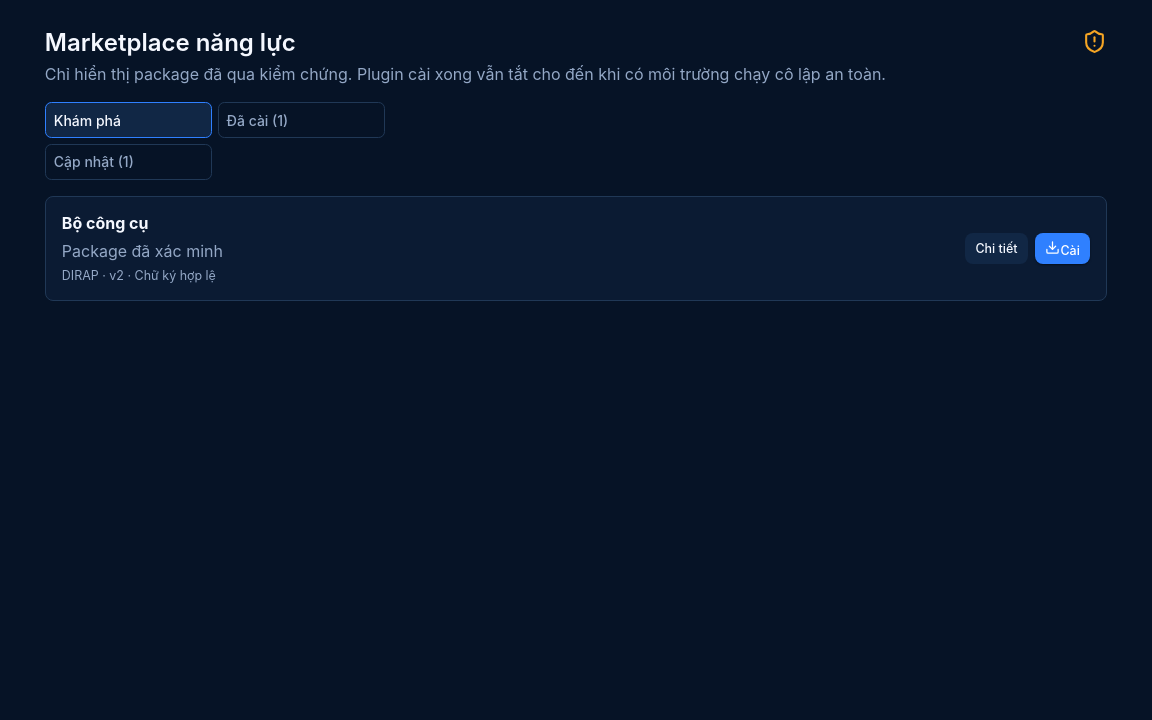
MarketplacePanel › shows verified update and safe plugin details
This screenshot has width=1152, height=720.
Expected: the text "Bộ công cụ" is shown, top-left (62, 213), bottom-right (148, 233)
Click the button "Chi tiết" at (996,249), box top-left (965, 233), bottom-right (1028, 264)
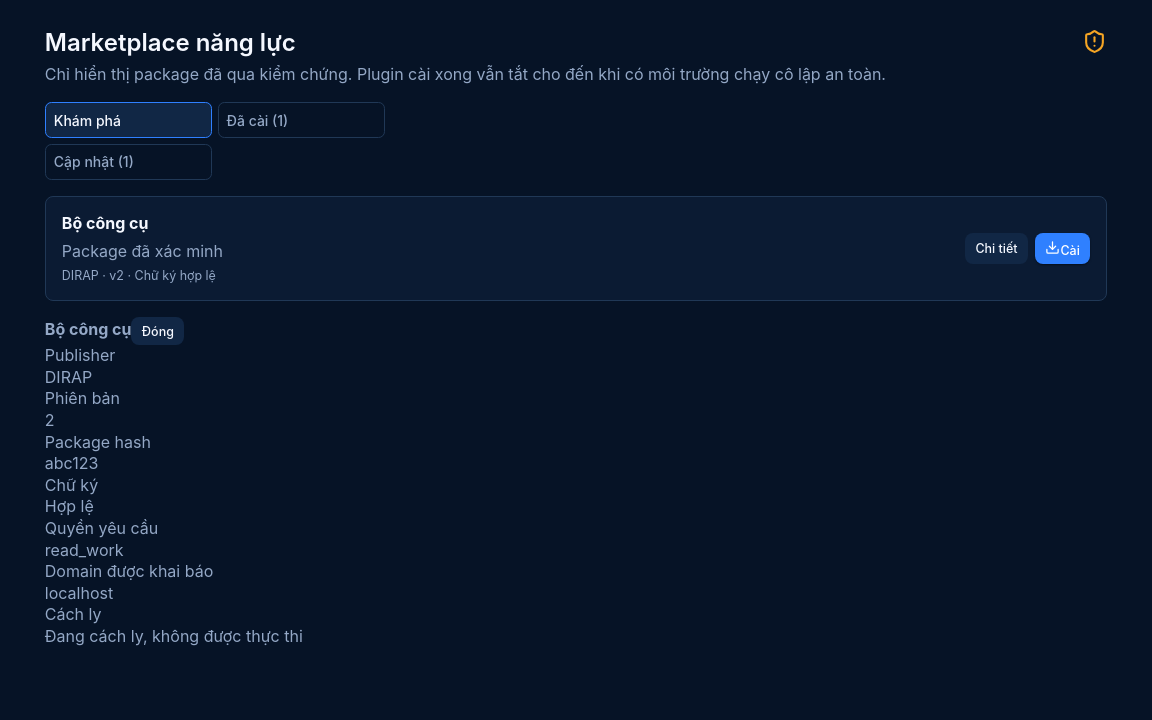
Expected: the text "abc123" is shown, top-left (45, 453), bottom-right (98, 473)
Expected: the text "read_work" is shown, top-left (45, 540), bottom-right (124, 560)
Expected: the text "localhost" is shown, top-left (45, 583), bottom-right (113, 603)
Click the button "Cập nhật (1)" at (128,162), box top-left (45, 144), bottom-right (212, 180)
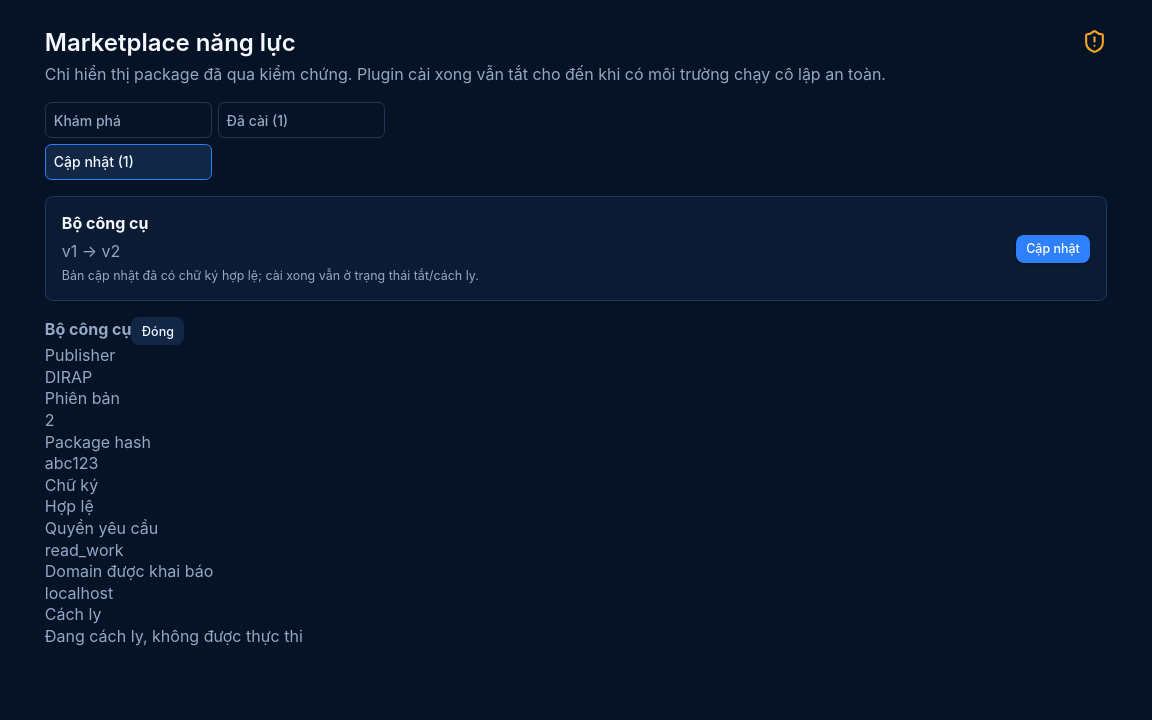
Expected: the text "v1 → v2" is shown, top-left (62, 241), bottom-right (120, 261)
